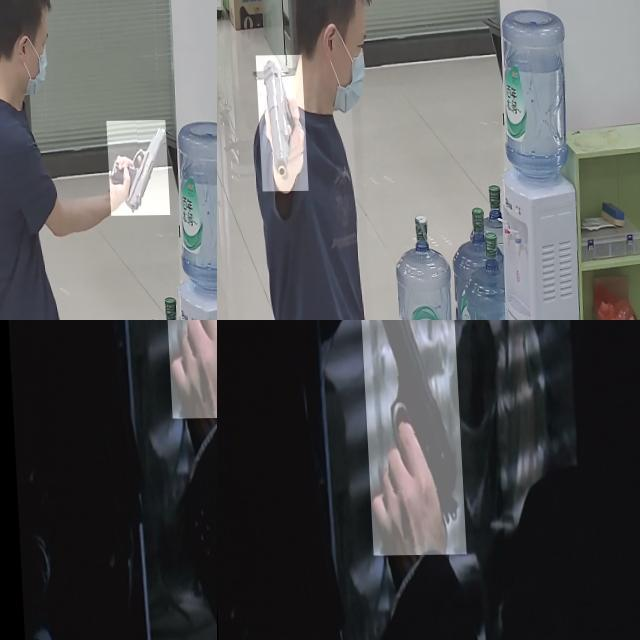gun-knife-thesis - v11 Yolov5 augmented: (356, 320, 462, 556), (155, 320, 217, 471), (253, 56, 304, 192), (104, 122, 168, 217)
